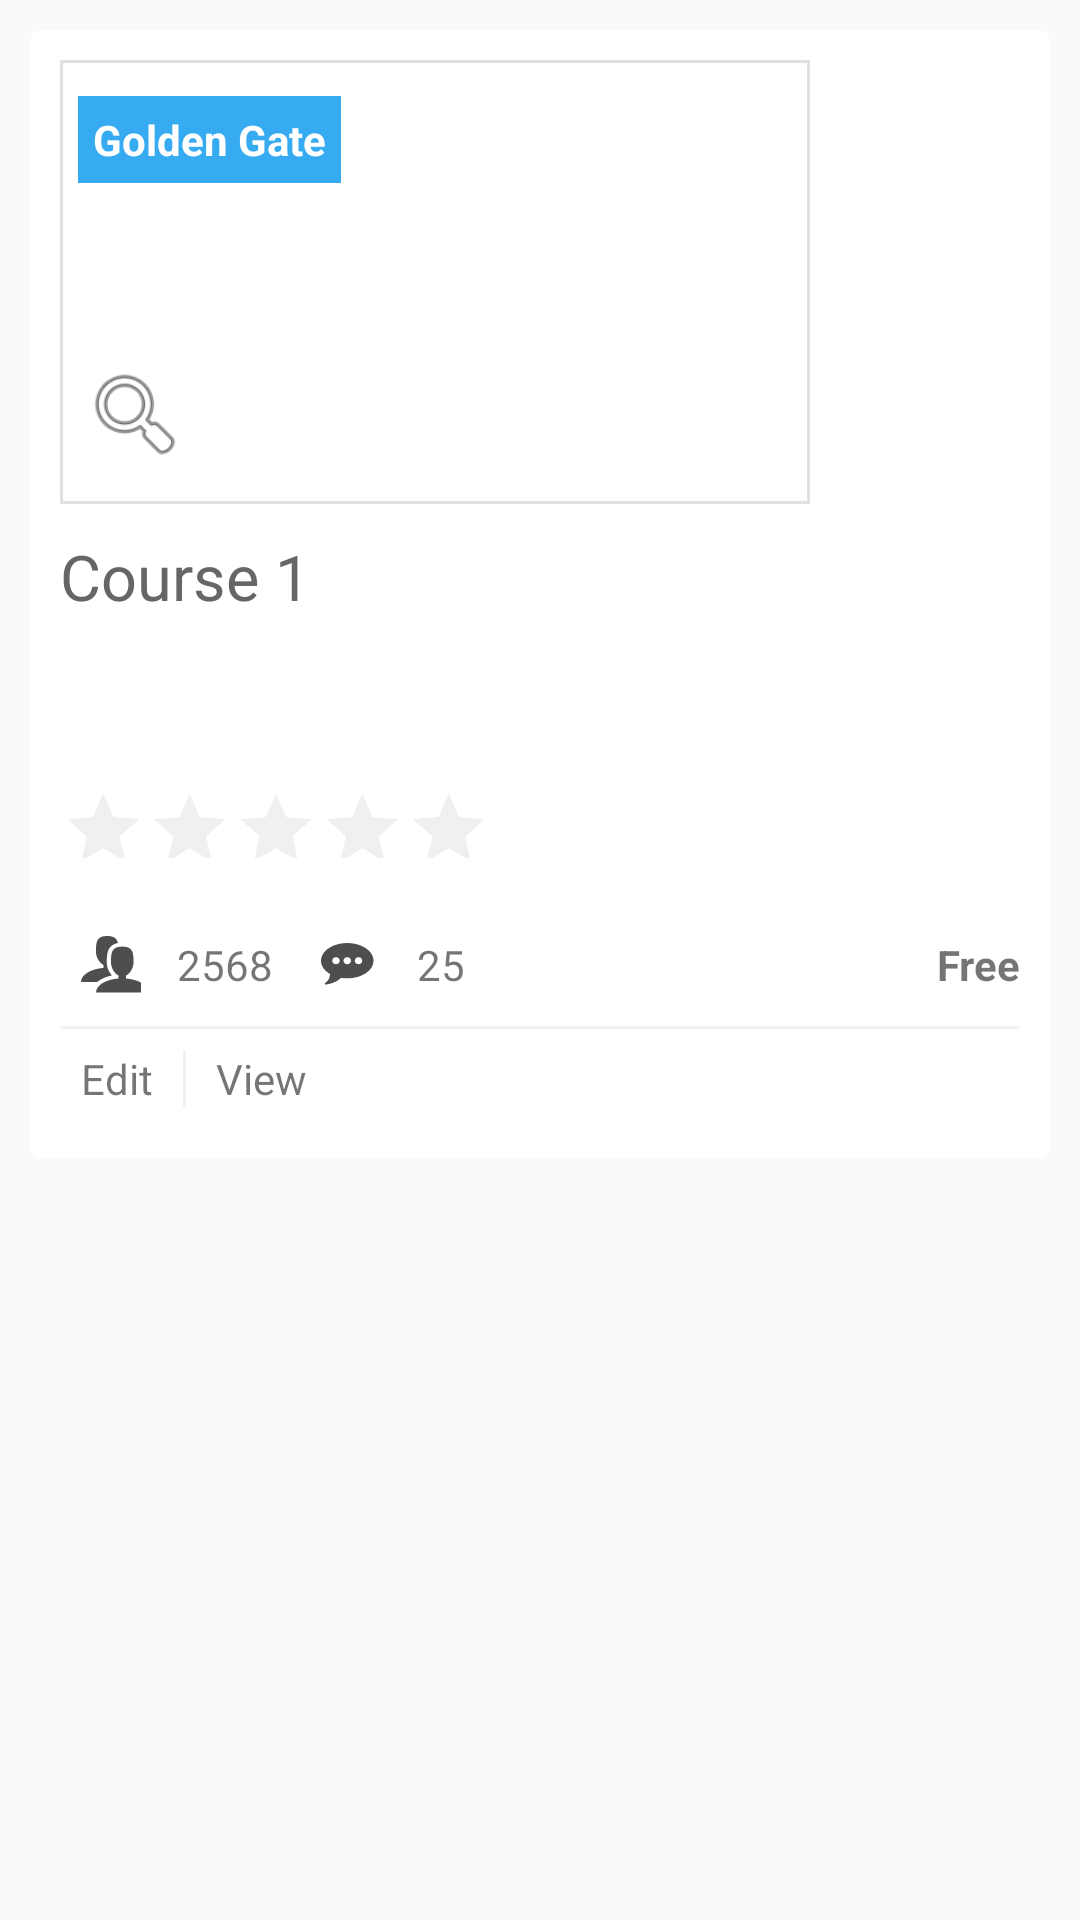

Icon bounding boxes for this 1080x1920 phone screenshot, format (x1, y1, x2, y2):
comment: (321, 943, 374, 985)
member: (81, 936, 141, 993)
search: (95, 374, 175, 455)
